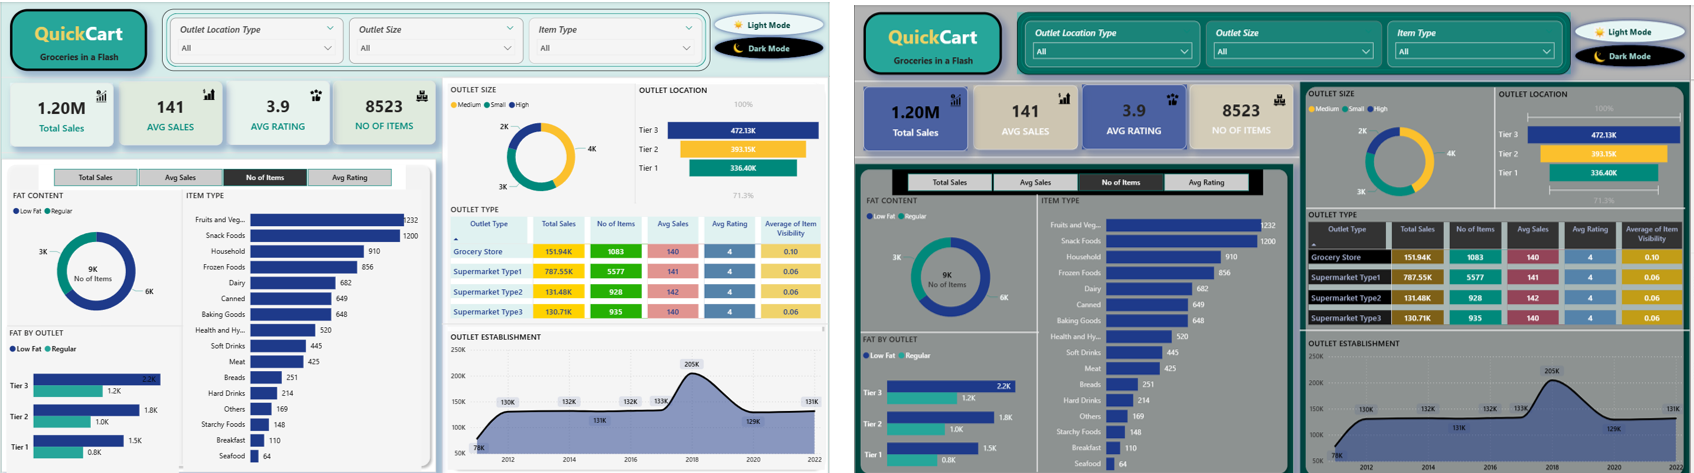

This screenshot's page, from the dashboard's own definition file:
{"tool":"powerbi","page":{"name":"Page 2","canvas":[1400,800],"ordinal":1},"visuals":[{"type":"shape","box":[272.1,12.1,927.6,104.6],"z":0,"group":"g8"},{"type":"textbox","box":[15.2,12.2,231.9,104.6],"z":0,"group":"g7"},{"type":"actionButton","box":[1199.7,18.8,199.7,52.3],"z":0,"group":"g9"},{"type":"shape","box":[745.3,127.3,654.2,672.9],"z":0},{"type":"group","id":"g1","title":"Group 1","box":[381.2,134,175.2,108.7],"z":0,"group":"g6"},{"type":"card","fields":{"Values":["BlinkIT Grocery Data.Avg Rating"]},"box":[381.2,134,175.2,108.7],"z":0,"group":"g1"},{"type":"card","fields":{"Values":["BlinkIT Grocery Data.No of Items"]},"box":[561.6,134.3,174,107.9],"z":0,"group":"g4"},{"type":"card","fields":{"Values":["BlinkIT Grocery Data.Avg Sales"]},"box":[198.4,135.2,175.2,107.6],"z":0,"group":"g2"},{"type":"card","fields":{"Values":["BlinkIT Grocery Data.Total Sales"]},"box":[14.7,137.7,174.8,107.9],"z":0,"group":"g3"},{"type":"shape","box":[0,265.4,735.9,530.2],"z":0,"group":"g5"},{"type":"actionButton","box":[1199.7,59,199.7,52.3],"z":1000,"group":"g9"},{"type":"textbox","box":[50.1,77.9,164.9,38.9],"z":1000,"group":"g7"},{"type":"group","id":"g2","title":"Group 2","box":[198.4,135.2,175.2,107.6],"z":1000,"group":"g6"},{"type":"image","box":[335.9,142.9,30.8,29.5],"z":1000,"group":"g2"},{"type":"image","box":[518.9,143.3,29.5,29.5],"z":1000,"group":"g1"},{"type":"image","box":[154.5,144.7,29.5,30.8],"z":1000,"group":"g3"},{"type":"image","box":[697.5,145.8,29.5,29.5],"z":1000,"group":"g4"},{"type":"donutChart","title":"FAT CONTENT","fields":{"Y":["BlinkIT Grocery Data.No of Items"],"Category":["BlinkIT Grocery Data.Item Fat Content"]},"box":[14.4,318,292.3,231.7],"z":1000,"group":"g5"},{"type":"lineChart","title":"OUTLET ESTABLISHMENT","fields":{"Y":["BlinkIT Grocery Data.Total Sales"],"Category":["BlinkIT Grocery Data.Outlet Establishment Year"]},"box":[756,557.6,638.1,234.6],"z":1000},{"type":"slicer","fields":{"Values":["BlinkIT Grocery Data.Outlet Location Type"]},"box":[285.5,26.8,293.6,77.7],"z":2000,"group":"g8"},{"type":"group","id":"g3","title":"Group 7","box":[14.7,137.7,174.8,107.9],"z":2000,"group":"g6"},{"type":"shape","box":[0,246.7,745.3,18.8],"z":2000},{"type":"slicer","fields":{"Values":["Metrics.Metrics"]},"box":[62.7,275.1,621.7,42.9],"z":2000,"group":"g5"},{"type":"shape","box":[0,117.2,1400,21.3],"z":3000},{"type":"group","id":"g4","title":"Group 8","box":[561.6,134.3,174,107.9],"z":3000,"group":"g6"},{"type":"clusteredBarChart","title":"FAT BY OUTLET","fields":{"Y":["BlinkIT Grocery Data.No of Items"],"Category":["BlinkIT Grocery Data.Outlet Location Type"],"Series":["BlinkIT Grocery Data.Item Fat Content"]},"box":[9,549.6,292.3,250.6],"z":3000,"group":"g5"},{"type":"slicer","fields":{"Values":["BlinkIT Grocery Data.Outlet Size"]},"box":[588.5,26.8,294.9,77.7],"z":4000,"group":"g8"},{"type":"group","id":"g5","title":"Group 9","box":[0,265.4,735.9,534.9],"z":4000},{"type":"shape","box":[9.4,530.3,298.9,36.2],"z":4000,"group":"g5"},{"type":"shape","box":[281.7,318,48.1,464.8],"z":5000,"group":"g5"},{"type":"shape","box":[757.4,323.1,635.4,36.2],"z":5000},{"type":"slicer","fields":{"Values":["BlinkIT Grocery Data.Item Type"]},"box":[892.7,26.8,293.6,77.7],"z":6000,"group":"g8"},{"type":"donutChart","title":"OUTLET SIZE","fields":{"Y":["BlinkIT Grocery Data.No of Items"],"Category":["BlinkIT Grocery Data.Outlet Size"]},"box":[756,138.1,316.4,203.8],"z":6000},{"type":"barChart","title":"ITEM TYPE","fields":{"Y":["BlinkIT Grocery Data.No of Items"],"Category":["BlinkIT Grocery Data.Item Type"]},"box":[308.5,318,402.8,477.9],"z":6000,"group":"g5"},{"type":"shape","box":[1048.3,138.1,48.3,203.8],"z":7000},{"type":"cardVisual","fields":{"Data":["BlinkIT Grocery Data.No of Items"]},"box":[94.9,413.2,120.3,89.8],"z":7000,"group":"g5"},{"type":"group","id":"g6","title":"Group 10","box":[14.7,134,720.8,111.7],"z":8000},{"type":"group","id":"g7","title":"Group 3","box":[15.2,12.2,231.3,105],"z":9000},{"type":"funnel","title":"OUTLET LOCATION","fields":{"Y":["Sum(BlinkIT Grocery Data.Sales)"],"Category":["BlinkIT Grocery Data.Outlet Location Type"]},"box":[1075.1,139.4,319,202.4],"z":10000},{"type":"pivotTable","title":"OUTLET TYPE","fields":{"Rows":["BlinkIT Grocery Data.Outlet Type"],"Values":["BlinkIT Grocery Data.Total Sales","BlinkIT Grocery Data.No of Items","BlinkIT Grocery Data.Avg Sales","BlinkIT Grocery Data.Avg Rating","Avg(BlinkIT Grocery Data.Item Visibility)"]},"box":[756,341.8,638.1,209.1],"z":11000},{"type":"shape","box":[745.3,530.8,654.2,29.5],"z":12000},{"type":"group","id":"g8","title":"Group 4","box":[272.1,12.1,927.6,104.6],"z":13000},{"type":"group","id":"g9","title":"Group 5","box":[1199.7,18.8,199.7,92.5],"z":14000}]}

Visuals, with their boxes on the page's 1400x800 design canvas (x1, y1, x2, y2). These are canvas units, not pixel positions in the 1694x473 screenshot, which may show the page scaled, cropped or inside an application window:
shape: {"left": 272, "top": 12, "right": 1200, "bottom": 117}
textbox: {"left": 15, "top": 12, "right": 247, "bottom": 117}
actionButton: {"left": 1200, "top": 19, "right": 1399, "bottom": 71}
shape: {"left": 745, "top": 127, "right": 1400, "bottom": 800}
"Group 1" group: {"left": 381, "top": 134, "right": 556, "bottom": 243}
card - BlinkIT Grocery Data.Avg Rating: {"left": 381, "top": 134, "right": 556, "bottom": 243}
card - BlinkIT Grocery Data.No of Items: {"left": 562, "top": 134, "right": 736, "bottom": 242}
card - BlinkIT Grocery Data.Avg Sales: {"left": 198, "top": 135, "right": 374, "bottom": 243}
card - BlinkIT Grocery Data.Total Sales: {"left": 15, "top": 138, "right": 190, "bottom": 246}
shape: {"left": 0, "top": 265, "right": 736, "bottom": 796}
actionButton: {"left": 1200, "top": 59, "right": 1399, "bottom": 111}
textbox: {"left": 50, "top": 78, "right": 215, "bottom": 117}
"Group 2" group: {"left": 198, "top": 135, "right": 374, "bottom": 243}
image: {"left": 336, "top": 143, "right": 367, "bottom": 172}
image: {"left": 519, "top": 143, "right": 548, "bottom": 173}
image: {"left": 154, "top": 145, "right": 184, "bottom": 176}
image: {"left": 698, "top": 146, "right": 727, "bottom": 175}
"FAT CONTENT" donutChart: {"left": 14, "top": 318, "right": 307, "bottom": 550}
"OUTLET ESTABLISHMENT" lineChart: {"left": 756, "top": 558, "right": 1394, "bottom": 792}
slicer - BlinkIT Grocery Data.Outlet Location Type: {"left": 286, "top": 27, "right": 579, "bottom": 104}
"Group 7" group: {"left": 15, "top": 138, "right": 190, "bottom": 246}
shape: {"left": 0, "top": 247, "right": 745, "bottom": 266}
slicer - Metrics.Metrics: {"left": 63, "top": 275, "right": 684, "bottom": 318}
shape: {"left": 0, "top": 117, "right": 1400, "bottom": 138}
"Group 8" group: {"left": 562, "top": 134, "right": 736, "bottom": 242}
"FAT BY OUTLET" clusteredBarChart: {"left": 9, "top": 550, "right": 301, "bottom": 800}
slicer - BlinkIT Grocery Data.Outlet Size: {"left": 588, "top": 27, "right": 883, "bottom": 104}
"Group 9" group: {"left": 0, "top": 265, "right": 736, "bottom": 800}
shape: {"left": 9, "top": 530, "right": 308, "bottom": 566}
shape: {"left": 282, "top": 318, "right": 330, "bottom": 783}
shape: {"left": 757, "top": 323, "right": 1393, "bottom": 359}
slicer - BlinkIT Grocery Data.Item Type: {"left": 893, "top": 27, "right": 1186, "bottom": 104}
"OUTLET SIZE" donutChart: {"left": 756, "top": 138, "right": 1072, "bottom": 342}
"ITEM TYPE" barChart: {"left": 308, "top": 318, "right": 711, "bottom": 796}
shape: {"left": 1048, "top": 138, "right": 1097, "bottom": 342}
cardVisual - BlinkIT Grocery Data.No of Items: {"left": 95, "top": 413, "right": 215, "bottom": 503}
"Group 10" group: {"left": 15, "top": 134, "right": 736, "bottom": 246}
"Group 3" group: {"left": 15, "top": 12, "right": 246, "bottom": 117}
"OUTLET LOCATION" funnel: {"left": 1075, "top": 139, "right": 1394, "bottom": 342}
"OUTLET TYPE" pivotTable: {"left": 756, "top": 342, "right": 1394, "bottom": 551}
shape: {"left": 745, "top": 531, "right": 1400, "bottom": 560}
"Group 4" group: {"left": 272, "top": 12, "right": 1200, "bottom": 117}
"Group 5" group: {"left": 1200, "top": 19, "right": 1399, "bottom": 111}
